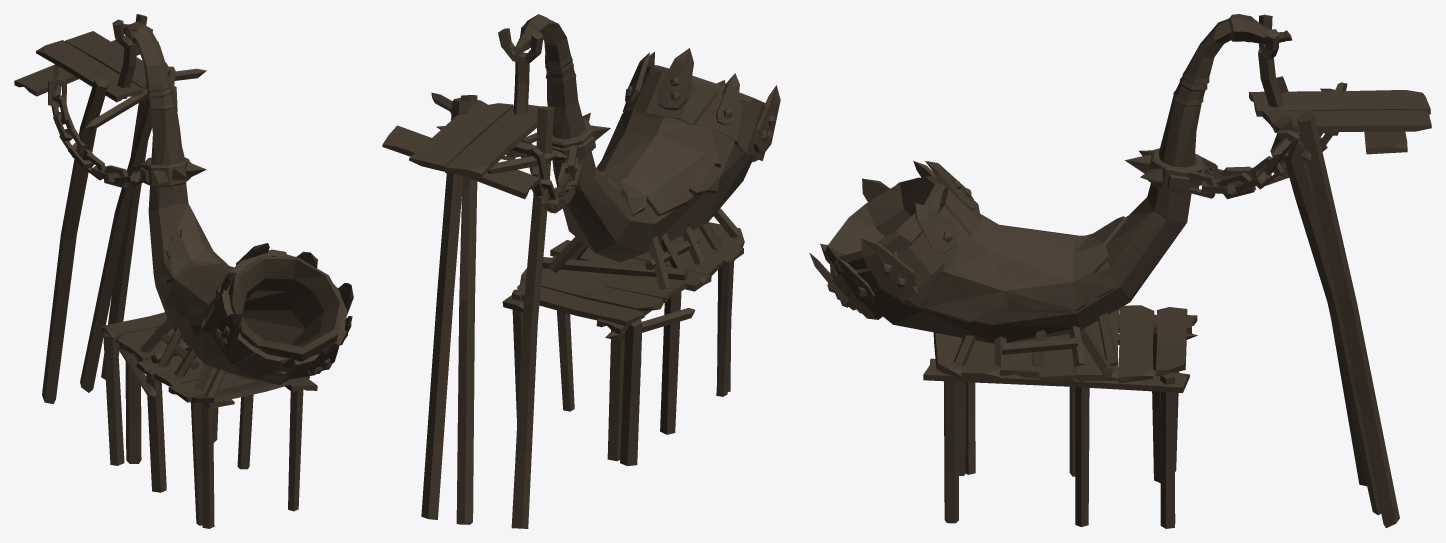
File: bog_warhorn.gltf
3 renders of one model, left to right at view 1: azimuth 30°, elevation 25°; view 2: azimuth 150°, elevation 25°; view 3: azimuth 270°, elevation 25°, orthographic. The views are drawn at different scales.
Parts seen in each view (by area): view 1: bog_warhorn; view 2: bog_warhorn; view 3: bog_warhorn.
Part boxes in pixels (<box>): bog_warhorn: <box>14,14,353,528</box>; bog_warhorn: <box>382,14,780,528</box>; bog_warhorn: <box>809,14,1431,528</box>.
Size of the model in its own units: 2.34 by 6.02 by 6.91.
Materials: 1 (1 with a texture image).
